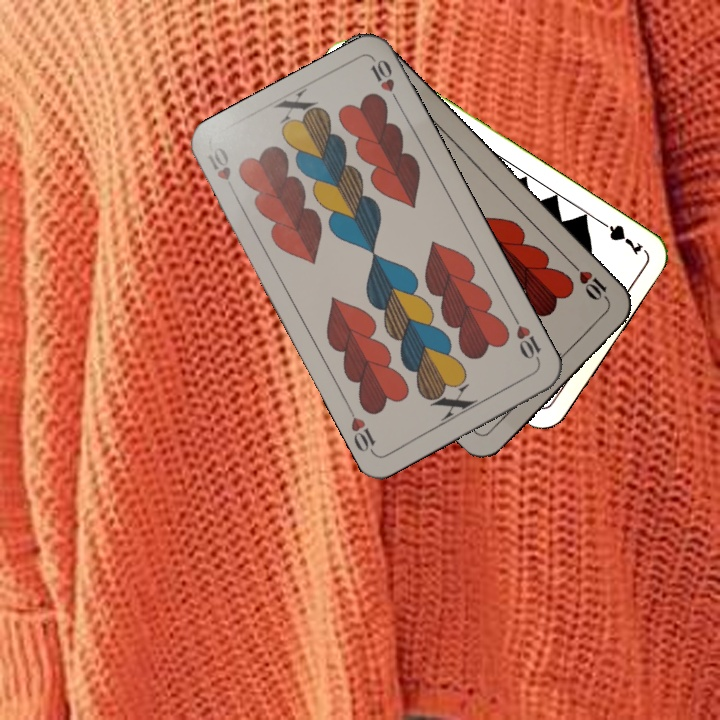G7: (593, 215, 646, 258)
H10: (567, 259, 613, 306), (203, 143, 240, 200), (508, 311, 544, 366)
